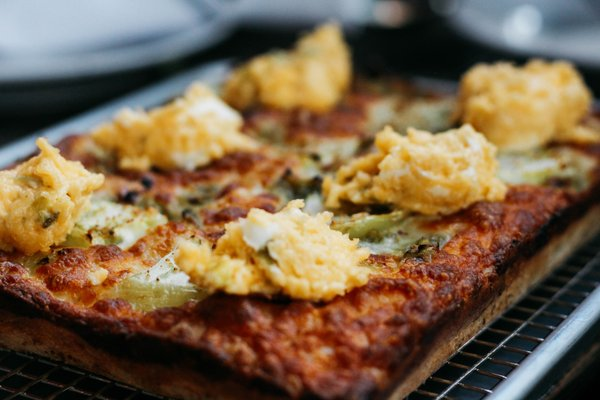sandwich: (0, 19, 597, 391)
